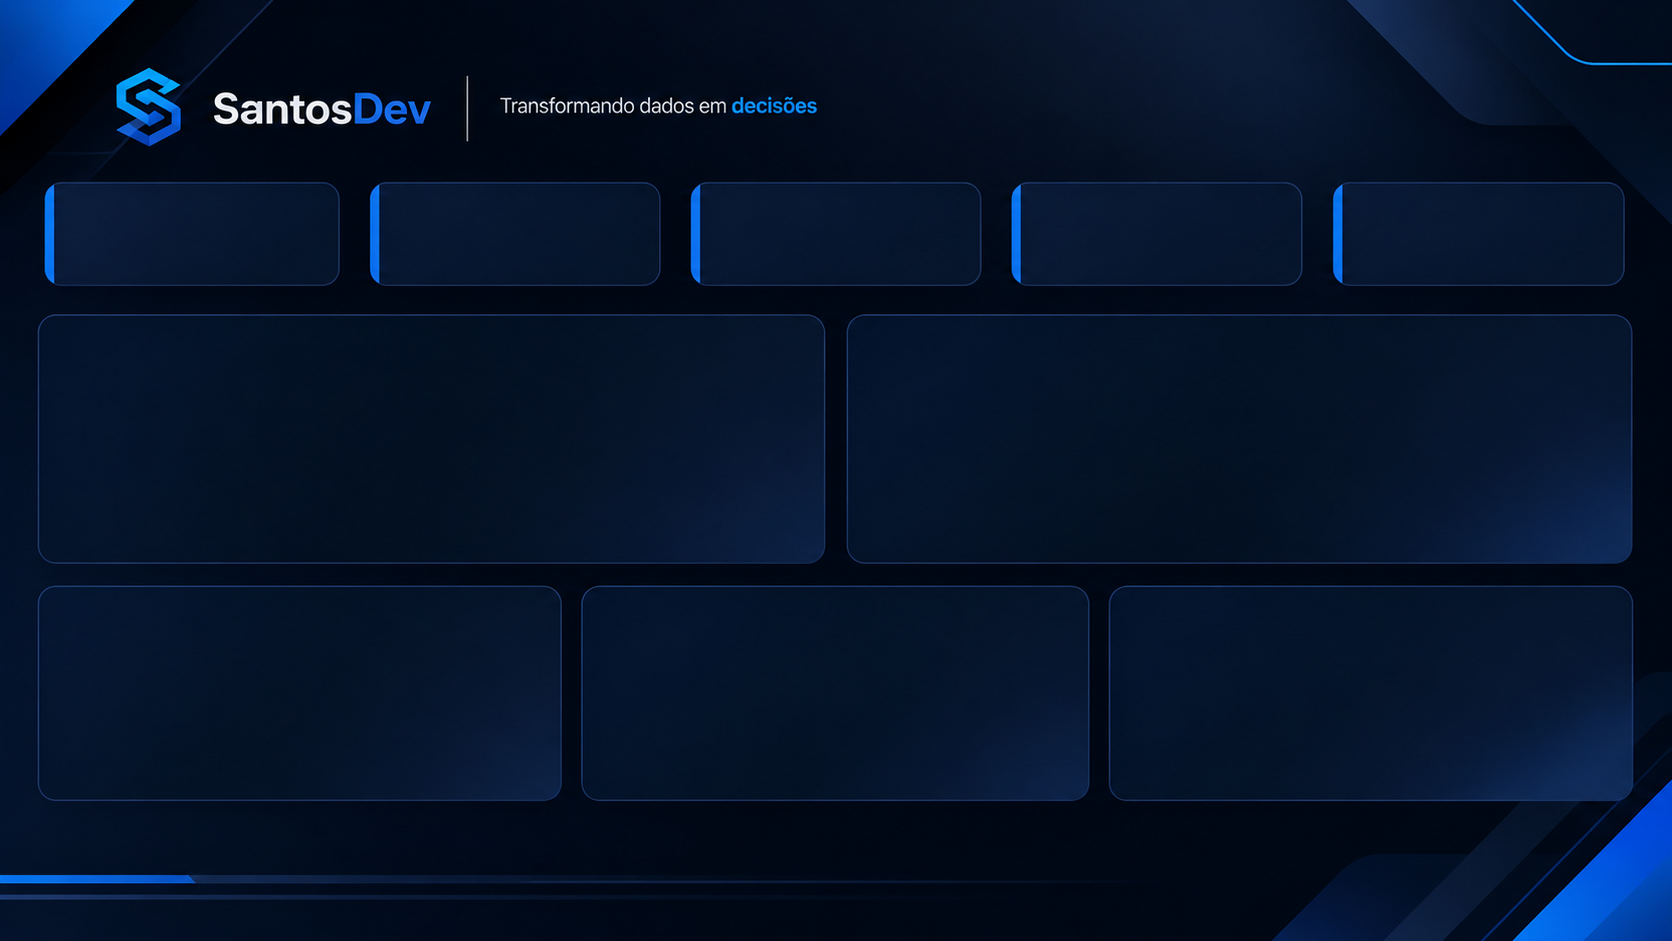

Layout of this report page (visuals, bound fields, positions):
{"tool":"powerbi","page":{"name":"Vendas","canvas":[1920,1080],"ordinal":0},"visuals":[{"type":"cardVisual","fields":{"Data":["Vendas.Lucro"]},"box":[505.1,250.9,280.8,99.7],"z":0},{"type":"cardVisual","fields":{"Data":["Vendas.Total Pedidos"]},"box":[1143.1,250.9,290.8,99.7],"z":1000},{"type":"cardVisual","fields":{"Data":["Vendas.Unidades Vendidas"]},"box":[1467.1,250.9,284.1,99.7],"z":2000},{"type":"cardVisual","fields":{"Data":["Vendas.Ticket Médio"]},"box":[824.1,250.9,280.8,99.7],"z":3000},{"type":"cardVisual","fields":{"Data":["Vendas.Faturamento"]},"box":[179.4,250.9,289.1,99.7],"z":4000},{"type":"lineChart","fields":{"Category":["Vendas.Data.Variação.Hierarquia de datas.Mês"],"Y":["Vendas.Faturamento"]},"box":[968.7,378.8,790.9,249.2],"z":5000},{"type":"barChart","fields":{"Category":["Vendas.Produto"],"Y":["Vendas.Unidades Vendidas"]},"box":[147.9,648,541.7,274.2],"z":6000},{"type":"pieChart","fields":{"Category":["Vendas.Região"],"Y":["Vendas.Faturamento"]},"box":[707.8,648,508.4,274.2],"z":7000},{"type":"columnChart","fields":{"Category":["Vendas.Categoria"],"Y":["Vendas.Faturamento"]},"box":[1229.5,648,526.7,274.2],"z":8000},{"type":"clusteredBarChart","fields":{"Category":["Vendas.Vendedor"],"Y":["Vendas.Faturamento"]},"box":[147.9,378.8,805.8,249.2],"z":9000},{"type":"actionButton","box":[0,0,100,40],"z":10000},{"type":"slicer","fields":{"Values":["Vendas.Data"]},"box":[995.3,99.7,221,106.3],"z":11000},{"type":"slicer","fields":{"Values":["Vendas.Região"]},"box":[1239.5,94.7,194.4,58.2],"z":12000},{"type":"slicer","fields":{"Values":["Vendas.Categoria"]},"box":[1239.5,154.5,194.4,61.5],"z":13000}]}

Visuals, with their boxes in screenshot pixels (x1, y1, x2, y2), scaled from the page's 1920x1080 canvas onto the 1672x941 screenshot:
cardVisual - Vendas.Lucro: 440 219 684 305
cardVisual - Vendas.Total Pedidos: 995 219 1249 305
cardVisual - Vendas.Unidades Vendidas: 1278 219 1525 305
cardVisual - Vendas.Ticket Médio: 718 219 962 305
cardVisual - Vendas.Faturamento: 156 219 408 305
lineChart - Vendas.Data.Variação.Hierarquia de datas.Mês x Vendas.Faturamento: 844 330 1532 547
barChart - Vendas.Produto x Vendas.Unidades Vendidas: 129 565 601 804
pieChart - Vendas.Região x Vendas.Faturamento: 616 565 1059 804
columnChart - Vendas.Categoria x Vendas.Faturamento: 1071 565 1529 804
clusteredBarChart - Vendas.Vendedor x Vendas.Faturamento: 129 330 831 547
actionButton: 0 0 87 35
slicer - Vendas.Data: 867 87 1059 179
slicer - Vendas.Região: 1079 83 1249 133
slicer - Vendas.Categoria: 1079 135 1249 188
